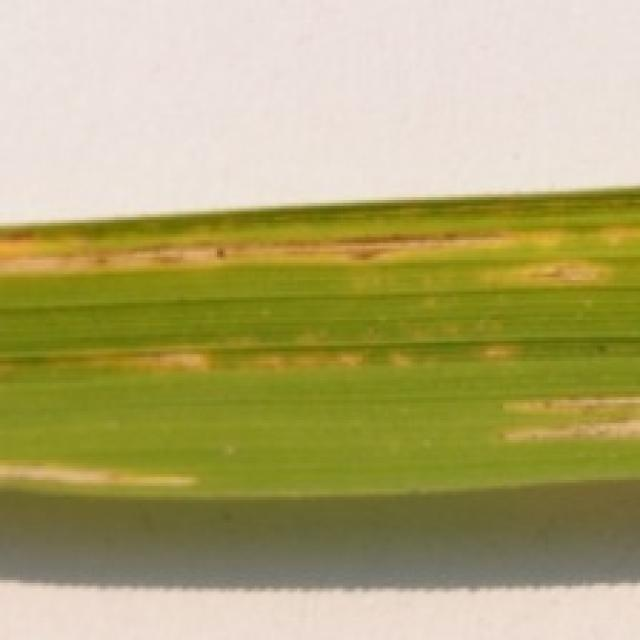Rice___Bacterial_Leaf_Blight: (0, 184, 637, 502)
